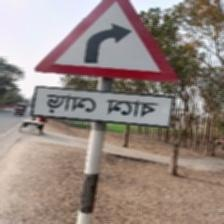Left-Turn: (31, 0, 183, 134)
